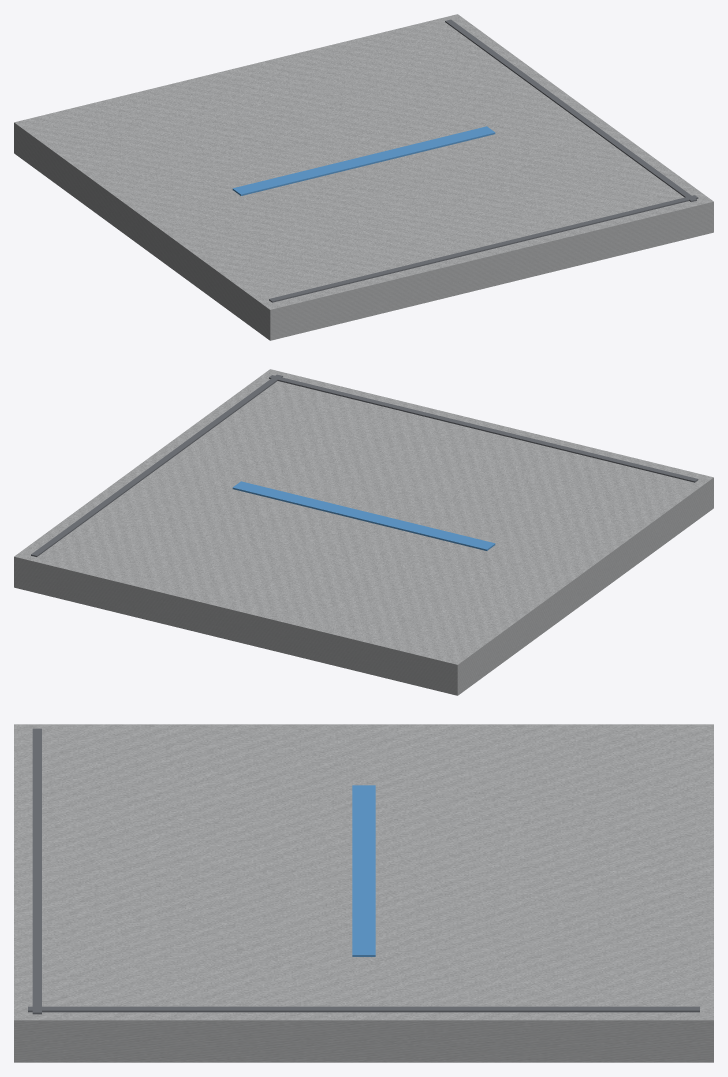
File: boarding-kennels-and-cattery-boarding-kennels-and-catt-74fa6aa3__35530.glb
The picture shows the model from 3 angles, top to bottom: view 1: azimuth 30°, elevation 25°; view 2: azimuth 150°, elevation 25°; view 3: azimuth 270°, elevation 25°; orthographic projection. The views are drawn at different scales.
Visible parts, largest first — view 1: boarding-kennels-and-cattery-kennel-floor-tile; view 2: boarding-kennels-and-cattery-kennel-floor-tile; view 3: boarding-kennels-and-cattery-kennel-floor-tile.
Boxes of the visible parts, x1=… form: boarding-kennels-and-cattery-kennel-floor-tile: x1=14, y1=14, x2=713, y2=340; boarding-kennels-and-cattery-kennel-floor-tile: x1=14, y1=369, x2=713, y2=695; boarding-kennels-and-cattery-kennel-floor-tile: x1=14, y1=724, x2=713, y2=1062.
Bounding box in the file's own units: 1.5 × 0.105 × 1.5.
3 materials, 1 textured.
